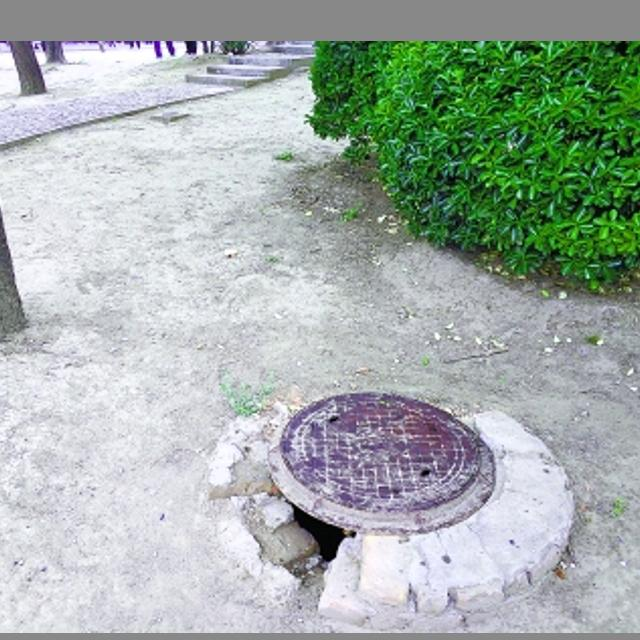circle: (189, 383, 585, 605)
